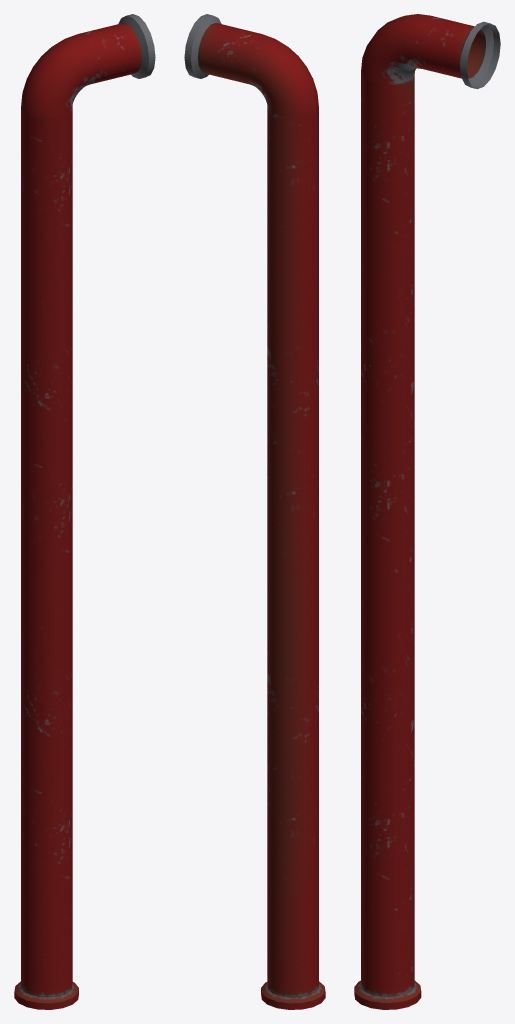
Rendered from MetalPipeB.fbx.
3 renders of one model, left to right at view 1: azimuth 30°, elevation 25°; view 2: azimuth 150°, elevation 25°; view 3: azimuth 330°, elevation 25°, orthographic. The views are drawn at different scales.
Parts seen in each view (by area): view 1: MetalPipeB1; view 2: MetalPipeB1; view 3: MetalPipeB1.
Boxes of the visible parts, x1=… form: MetalPipeB1: x1=14, y1=14, x2=155, y2=1009; MetalPipeB1: x1=184, y1=14, x2=325, y2=1009; MetalPipeB1: x1=354, y1=14, x2=500, y2=1009.
Bounding box in the file's own units: 35.81 × 271 × 16.71.
